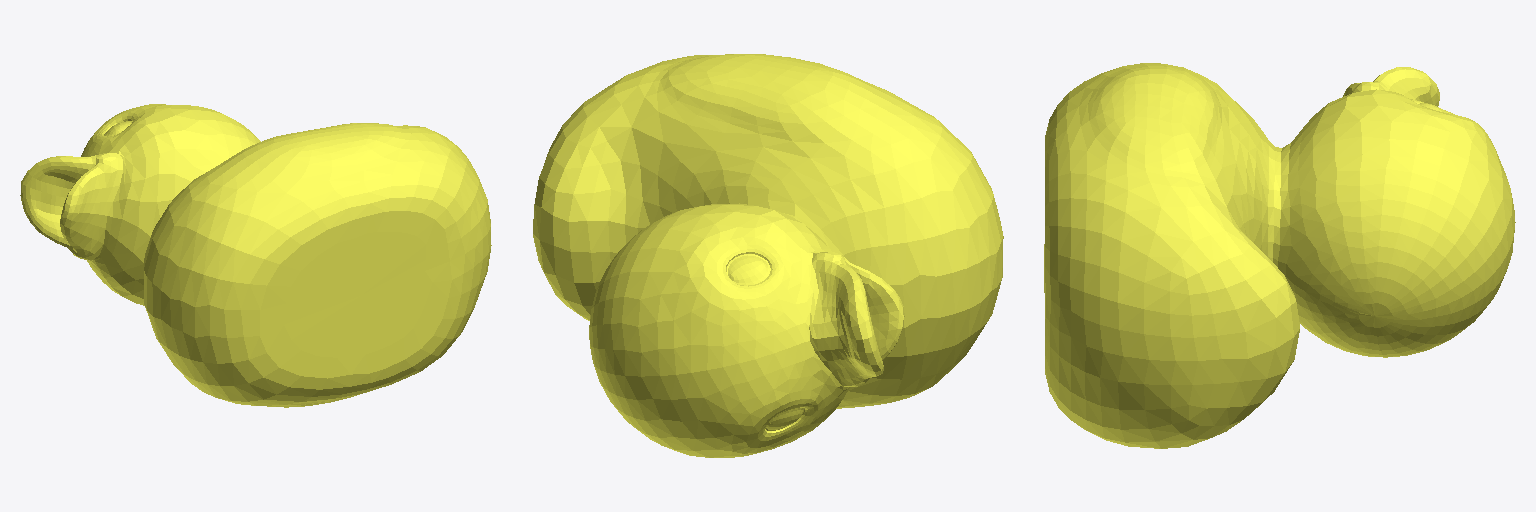
URDF robot description (cube.urdf):
<?xml version="0.0" ?>
<robot name="cube.urdf">
  <link name="baseLink">
    <contact>
      <lateral_friction value="1.0"/>
      <rolling_friction value="0.0"/>
      <contact_cfm value="0.0"/>
      <contact_erp value="1.0"/>
    </contact>
    <inertial>
      <origin rpy="0 0 0" xyz="0.0 0.02 0.0"/>
       <mass value=".1"/>
       <inertia ixx=".001" ixy="0" ixz="0" iyy=".001" iyz="0" izz=".001"/>
    </inertial>
    <visual>
      <origin rpy="0 0 0" xyz="0 0 0"/>
      <geometry>
        <mesh filename="duck.obj" scale=".05 .05 .05"/>
      </geometry>
       <material name="yellow">
        <color rgba="1 1 0.4 1"/>
      </material>
    </visual>
    <collision>
      <origin rpy="0 0 0" xyz="0 0 0"/>
      <geometry>
	 	<mesh filename="duck_vhacd.obj" scale=".05 .05 .05"/>
      </geometry>
    </collision>
  </link>
</robot>

--- What the picture shows (computed from the rendered views, not written in the file) ---
3 views of the same robot in one strip: view 1: azimuth 30°, elevation 25°; view 2: azimuth 150°, elevation 25°; view 3: azimuth 270°, elevation 25° (orthographic).
Model cube.urdf with 1 links and 0 joints (none), rooted at baseLink, posed every joint at zero.
Visible links, largest first — view 1: baseLink; view 2: baseLink; view 3: baseLink.
Boxes of the visible links, x1,y1,x2,y2 form: baseLink: (20,104,491,407); baseLink: (533,54,1003,457); baseLink: (1044,63,1515,448).
Size in the robot's own frame: 0.0041 by 0.0038 by 0.0029 metres.
1 mesh visuals loaded from 1 distinct referenced files (1 OBJ).